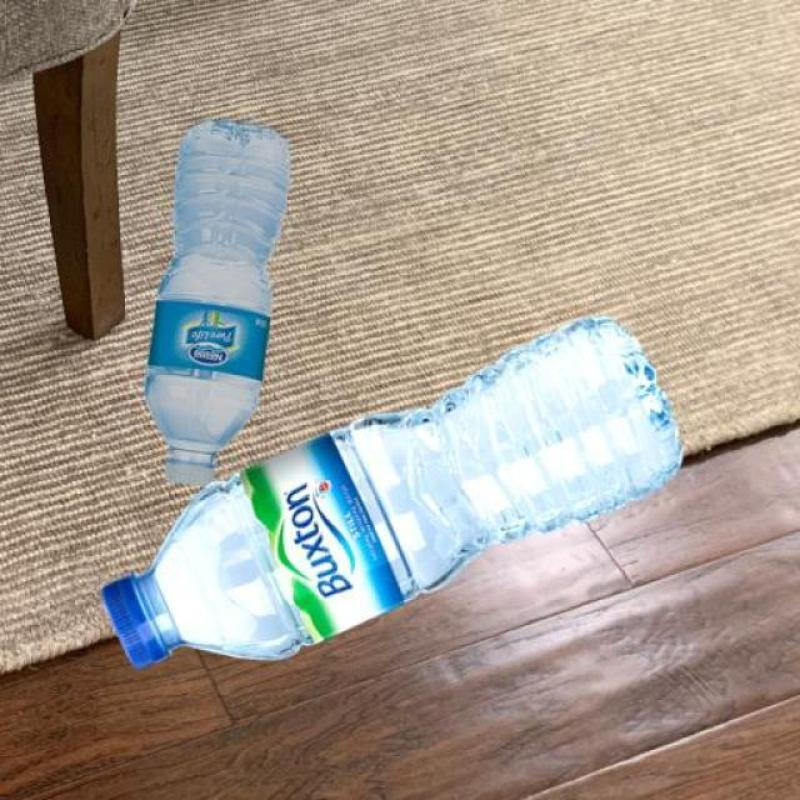botella: (103, 315, 685, 666), (138, 112, 287, 488)
